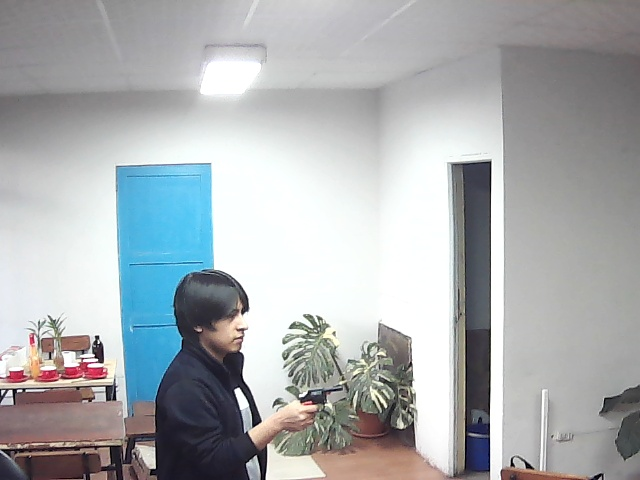pistola: (277, 376, 348, 440)
